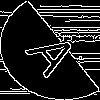A: (25, 25, 91, 79)
